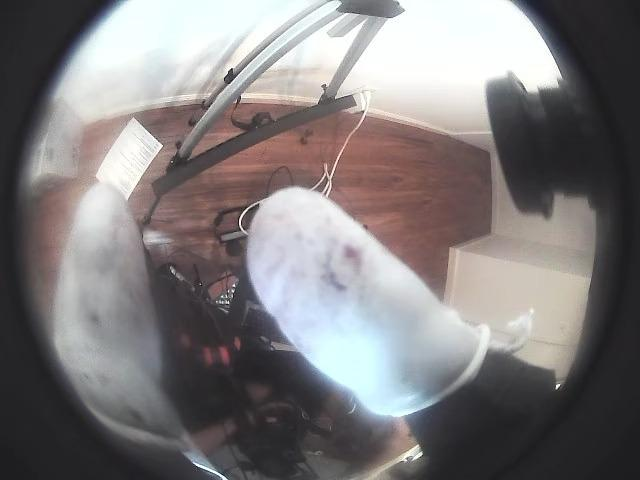gripper: (247, 187, 490, 416), (52, 183, 185, 446)
lense: (0, 0, 156, 479), (488, 0, 639, 479)
